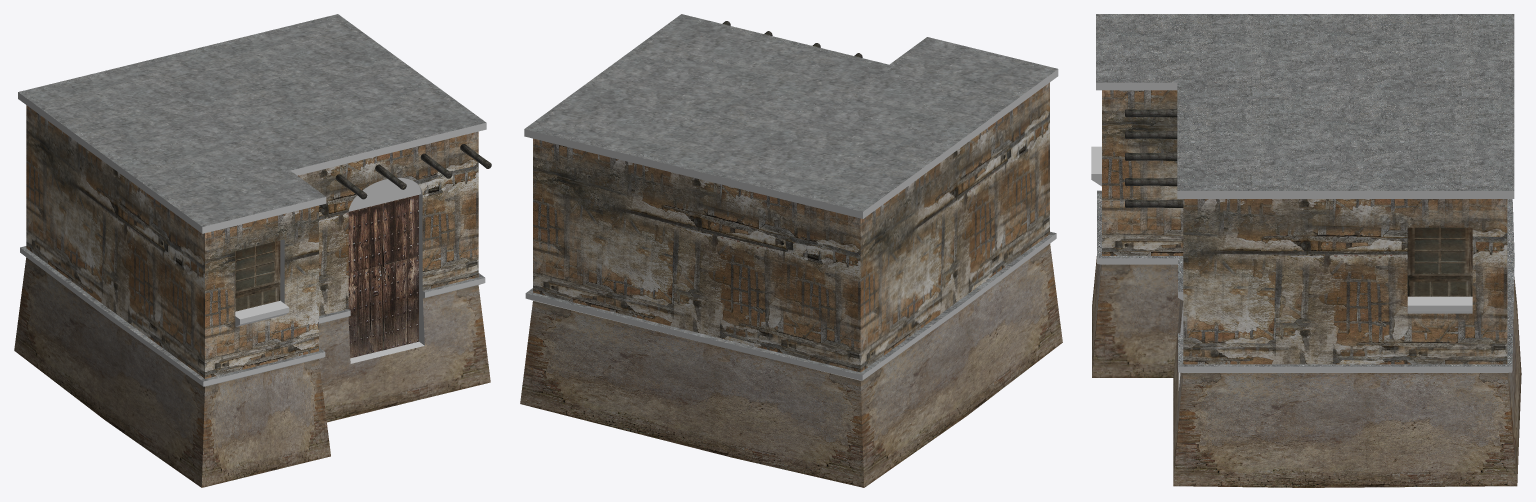
Rendered from Building_Base_04.fbx.
3 renders of one model, left to right at view 1: azimuth 30°, elevation 25°; view 2: azimuth 150°, elevation 25°; view 3: azimuth 270°, elevation 25°, orthographic. The views are drawn at different scales.
Parts seen in each view (by area): view 1: Building_Base_04; view 2: Building_Base_04; view 3: Building_Base_04.
Part boxes in pixels (x1,y1,x2,y2): Building_Base_04: (14,14,491,487); Building_Base_04: (520,14,1062,487); Building_Base_04: (1091,14,1521,487).
Bounding box in the file's own units: 535 × 400 × 531.
